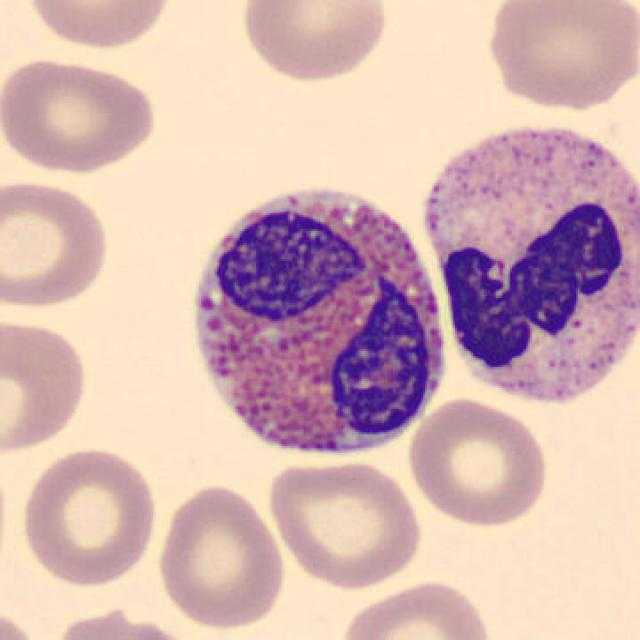Eosinophil: (174, 167, 457, 478)
Neutrophil: (412, 104, 640, 423)
RBC: (263, 456, 425, 590), (16, 442, 160, 589), (153, 480, 288, 631), (404, 395, 551, 529), (0, 55, 162, 176), (480, 0, 636, 111), (0, 176, 114, 314), (236, 0, 394, 85), (0, 313, 92, 456), (336, 576, 494, 640), (21, 0, 178, 53), (47, 604, 204, 640), (0, 599, 46, 640)
